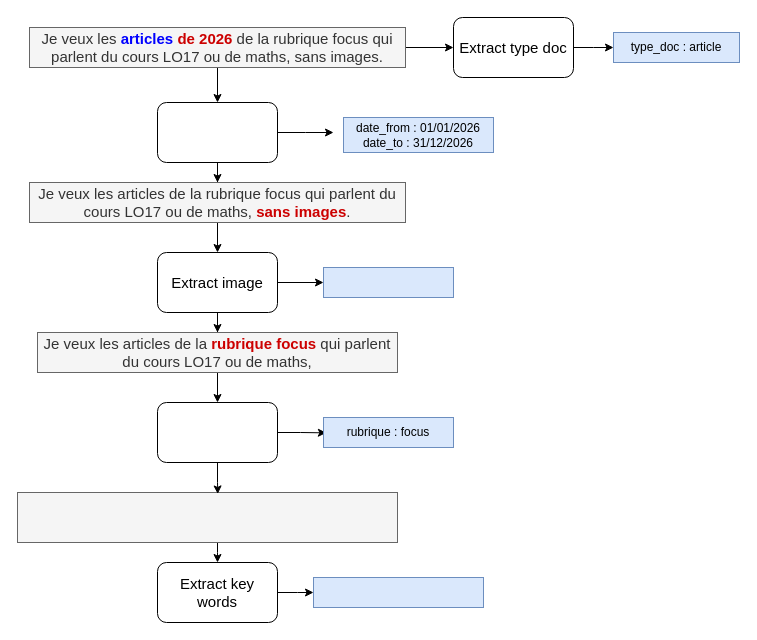
This 757x640 diagram has some shape labels left out. Each missing label, with the box of its shape:
Extract dates: (156, 102, 278, 162)
Extract rubrique: (156, 402, 278, 462)
image : False: (322, 266, 454, 298)
Je veux les articles de la qui parlent du cours LO17 ou de maths,: (16, 492, 398, 542)
titre : None contenu : [[lo17, cours], [math]]: (312, 576, 484, 608)
